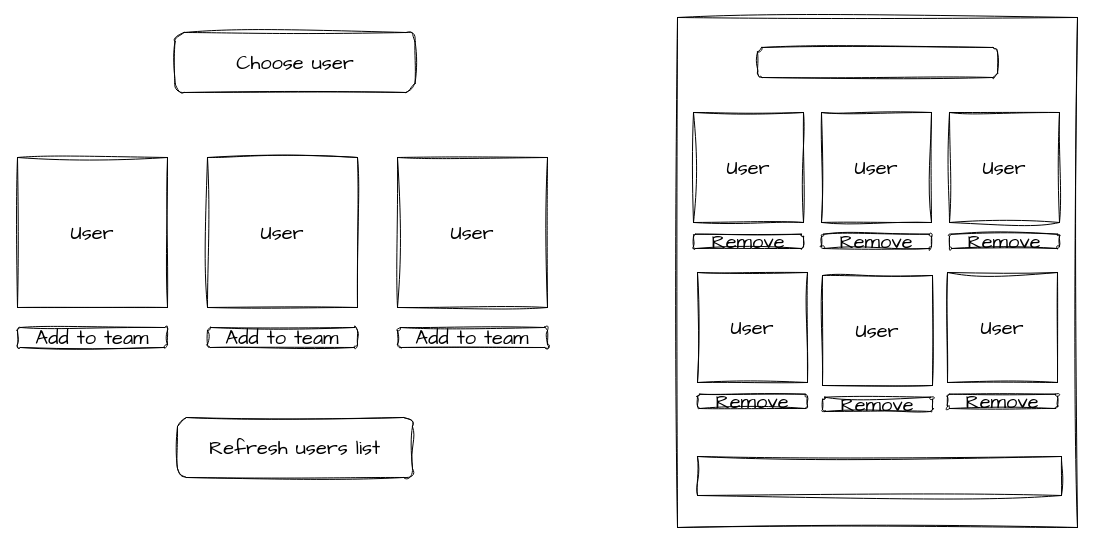
The diagram is 1095 pixels wide and 545 high, and some of its shapes have lost their labels. Here are the shapes that lost their labels. From the top down, the centre of each, then its label:
At (877,62): "My team".
At (879,476): "Messages for add, delete, error".
